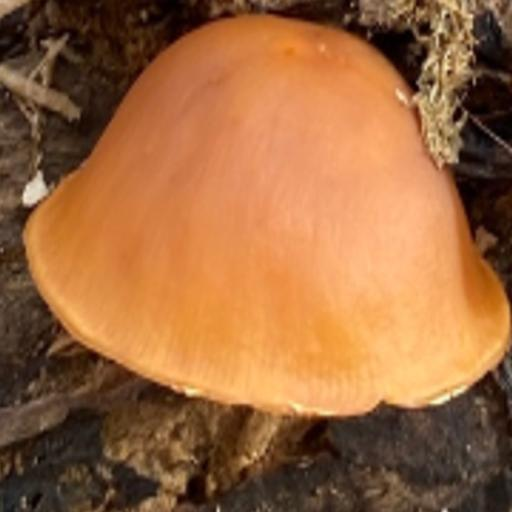mushroom: (24, 16, 512, 421)
